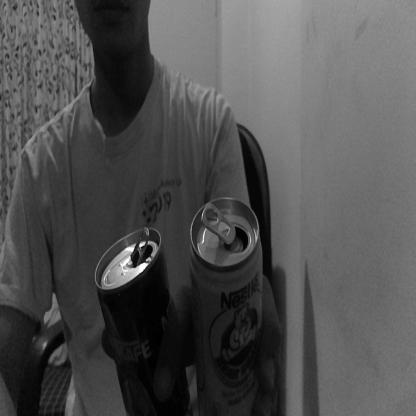alumunium_can: (92, 225, 188, 416), (189, 197, 265, 416)
